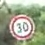limite 30: (8, 13, 36, 40)
